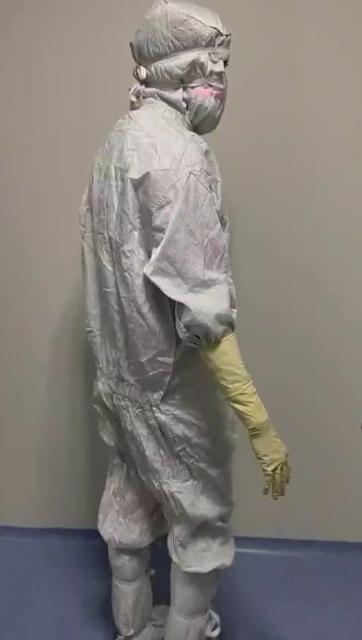boot_secured: (95, 510, 160, 640)
gloves_fitted_securely: (180, 306, 304, 514)
headgear_secured: (109, 2, 257, 134)
